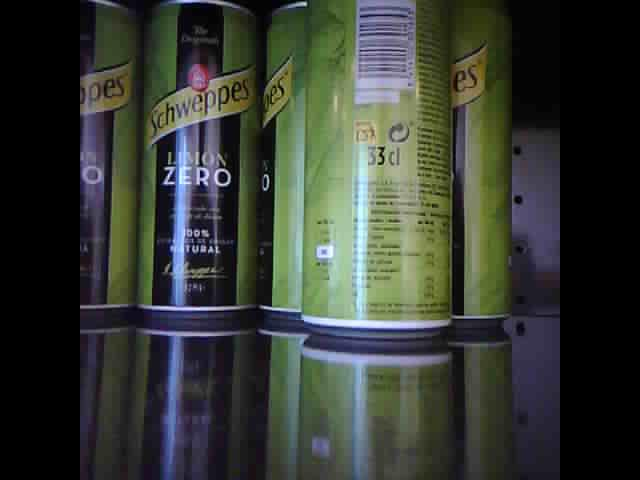schweppes: (300, 5, 453, 335), (137, 1, 256, 321), (451, 4, 513, 327), (76, 6, 135, 317), (257, 4, 303, 320)
